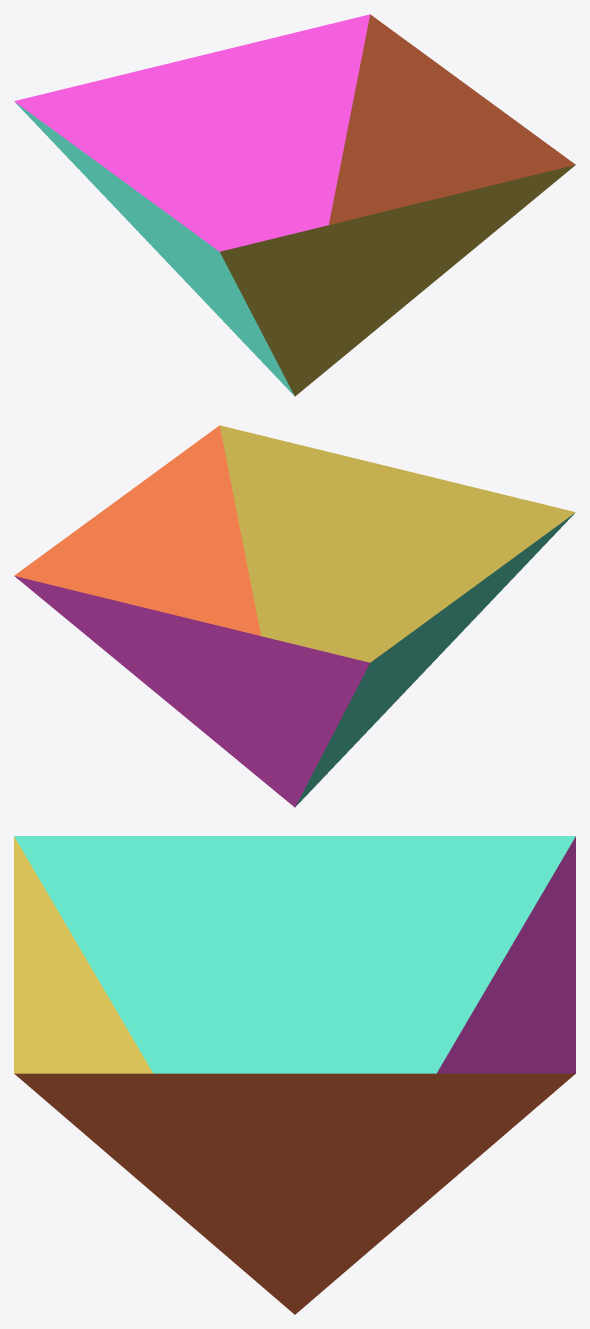
File: pollinator.FBX
The picture shows the model from 3 angles, top to bottom: view 1: azimuth 30°, elevation 25°; view 2: azimuth 150°, elevation 25°; view 3: azimuth 270°, elevation 25°; orthographic projection. The views are drawn at different scales.
Parts seen in each view (by area): view 1: Hedra001; view 2: Hedra001; view 3: Hedra001.
Boxes of the visible parts, left/top/right/bottom form: Hedra001: left=14, top=14, right=575, bottom=396; Hedra001: left=14, top=425, right=575, bottom=807; Hedra001: left=14, top=836, right=575, bottom=1314.
Bounding box in the file's own units: 22.46 × 15.88 × 22.46.
Materials: 1 (1 with a texture image).
